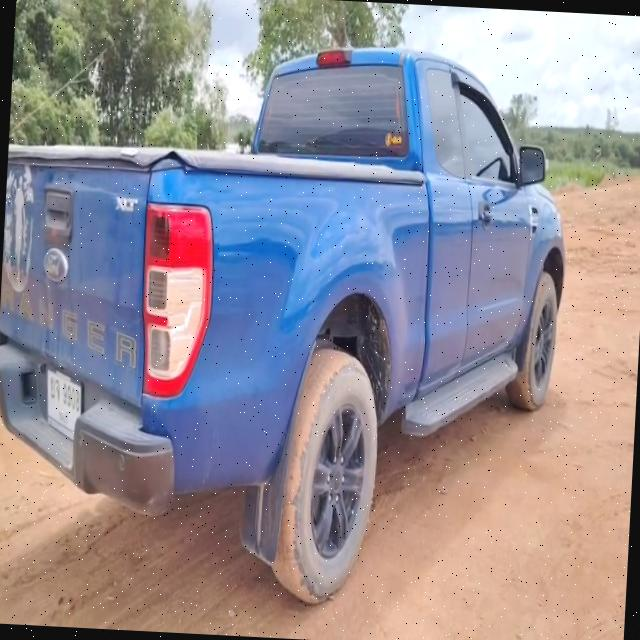Digit: (63, 381, 81, 415)
Licenseplate: (46, 364, 84, 447)
Provincename: (57, 407, 69, 428)
Thaichar: (50, 374, 61, 402)
